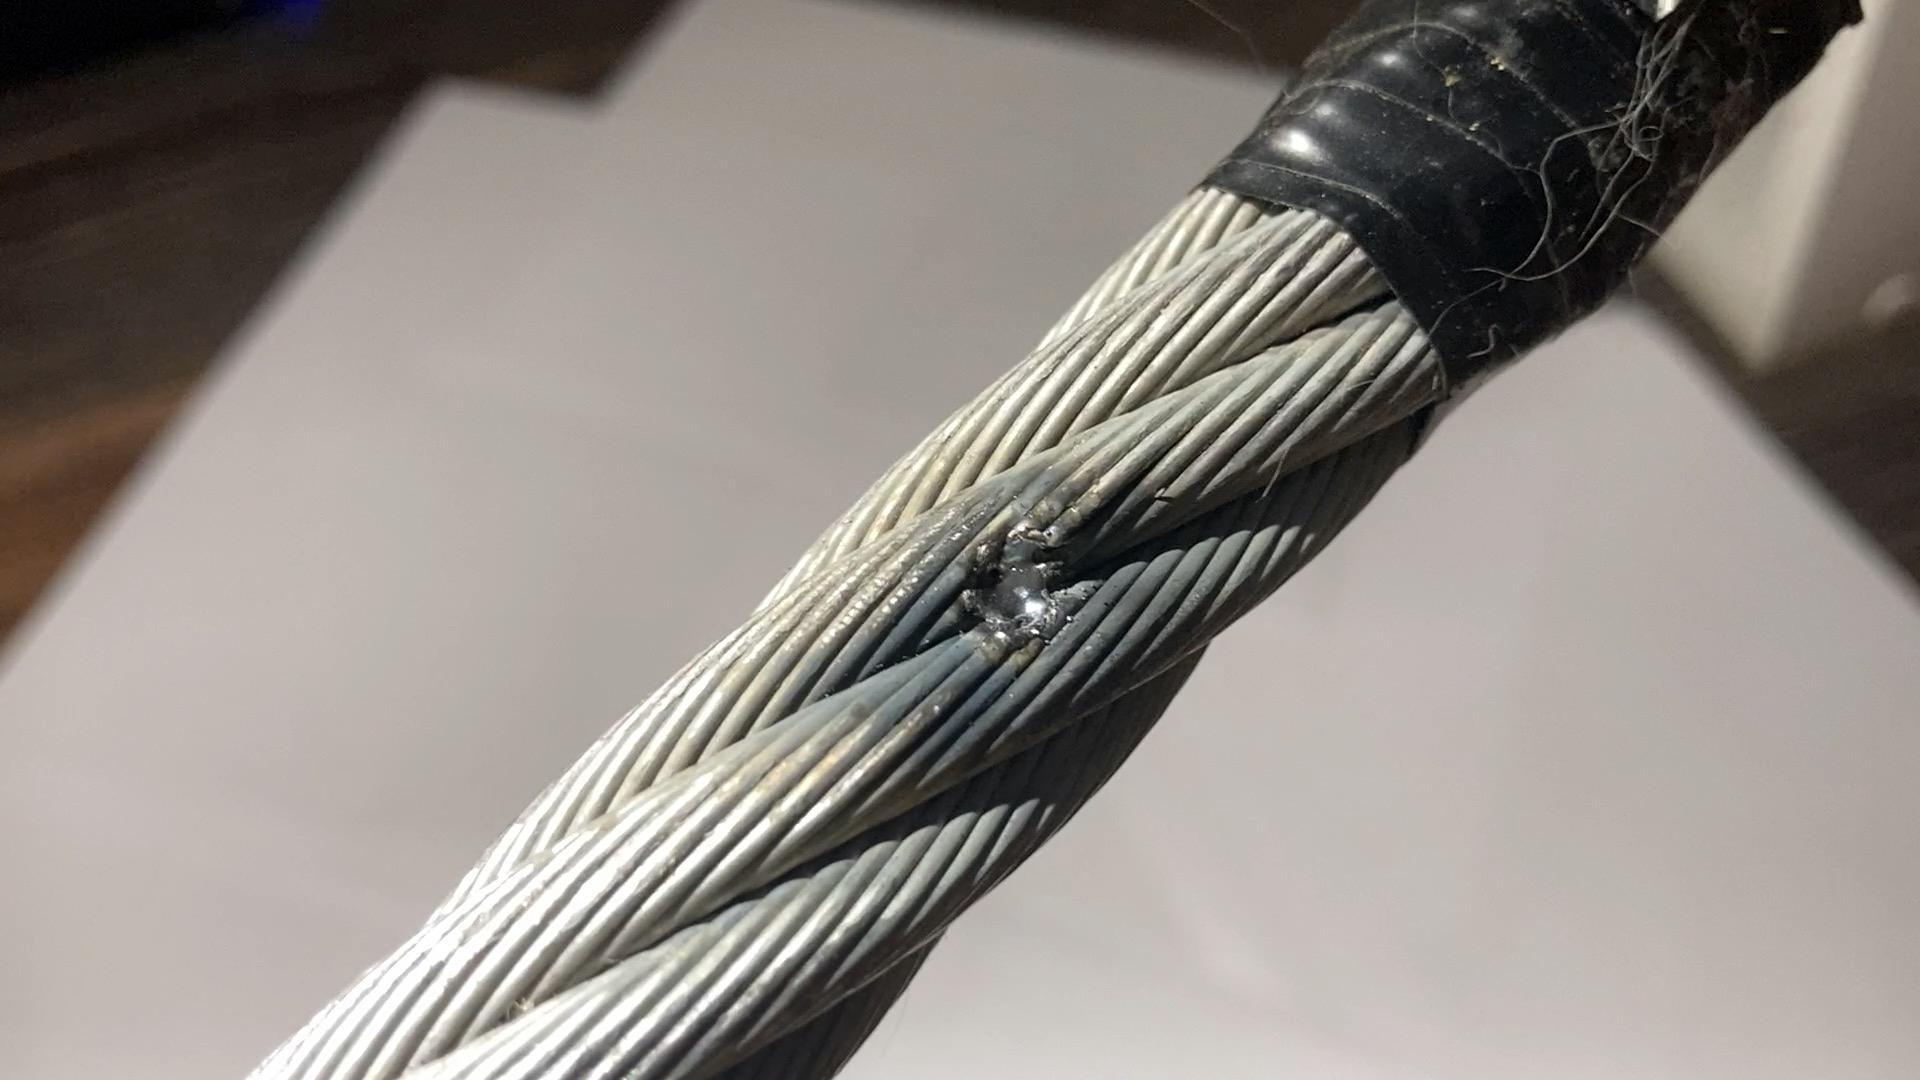thunderbolt: (948, 506, 1110, 654)
